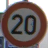20 km speed: (1, 1, 47, 48)
